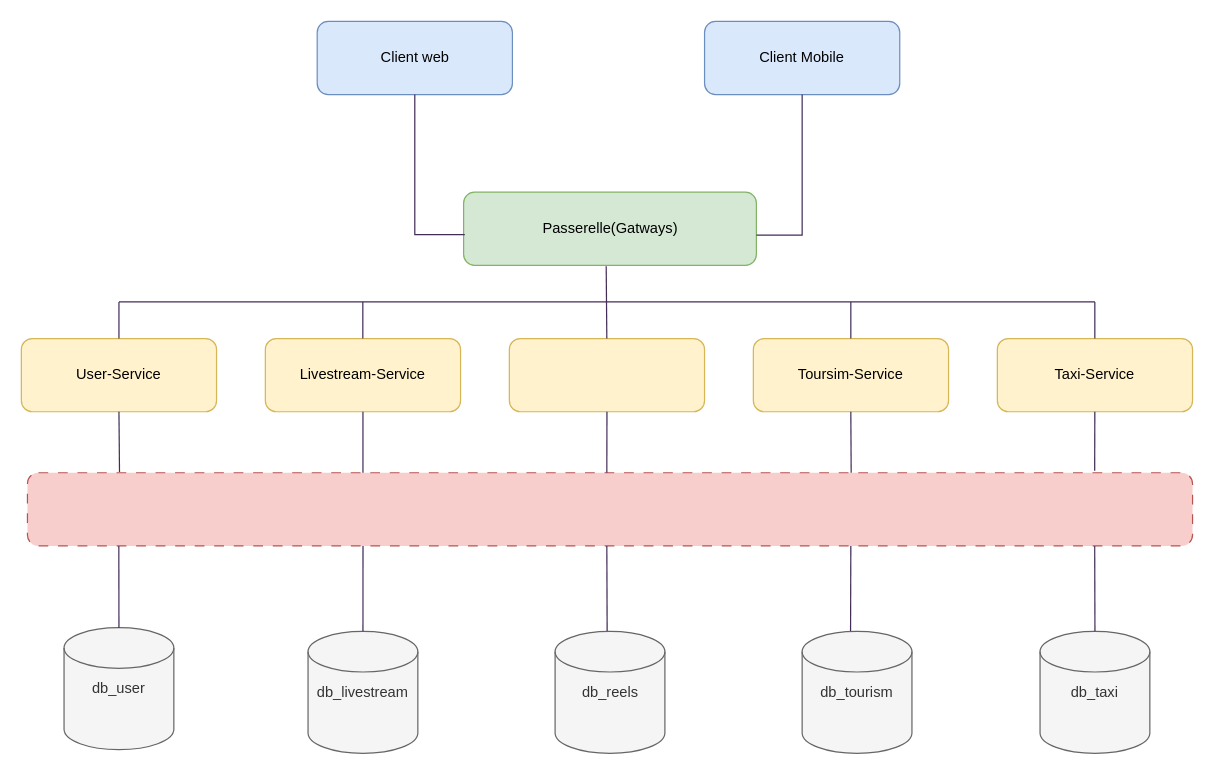
Image size: 1214x775. Some labels were removed from this diagram. Each missing label, with the box of its shape:
Bus Evenementiel Asynchrone: (26, 472, 1193, 546)
Reels-Service: (508, 337, 705, 412)
